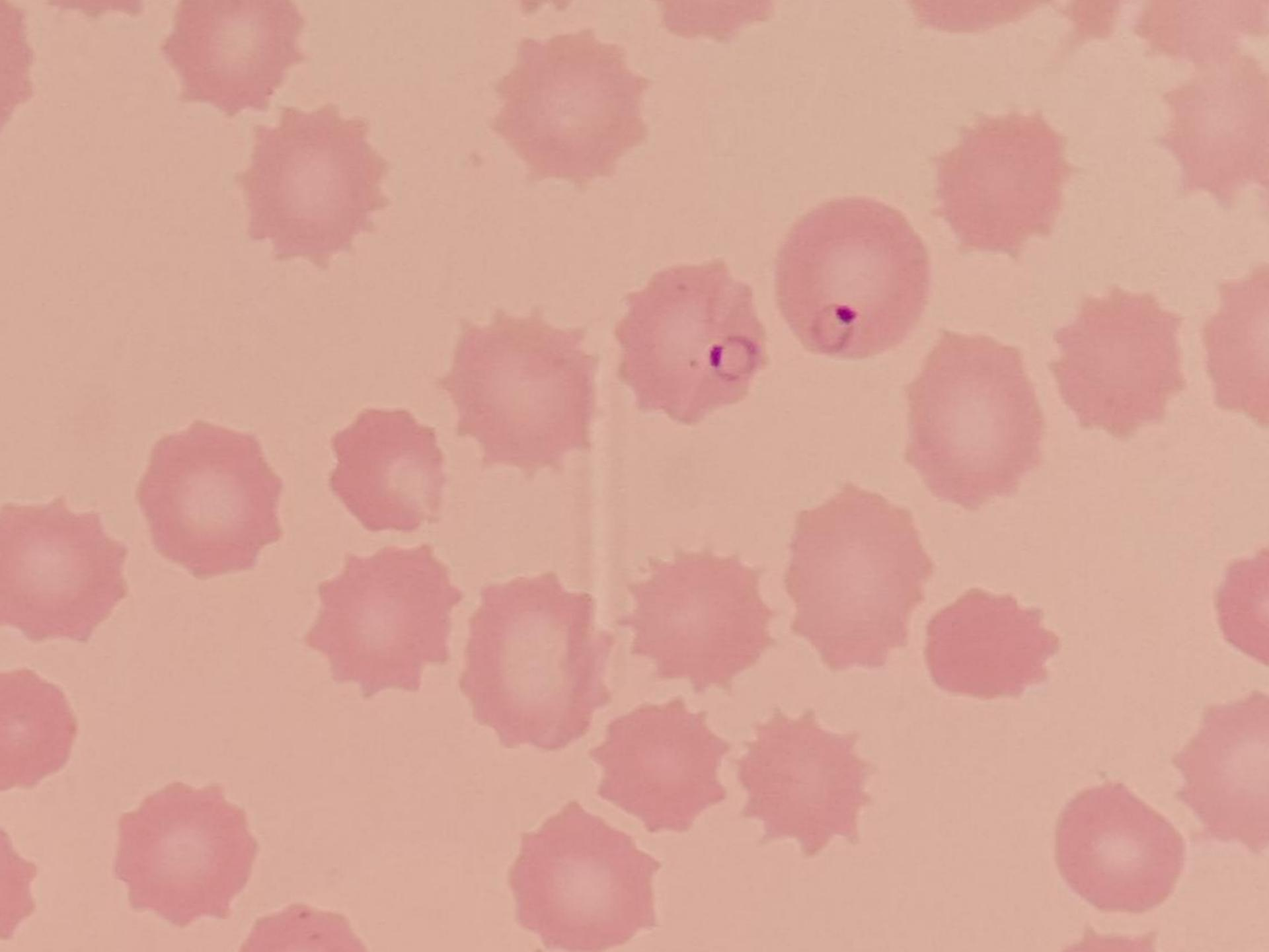Infected: (613, 258, 766, 425), (778, 194, 925, 357)
Uninfected: (236, 104, 393, 270), (448, 308, 601, 475), (788, 489, 929, 670), (486, 30, 648, 185), (464, 578, 609, 747), (904, 331, 1041, 505), (302, 544, 458, 694), (137, 418, 280, 579), (932, 103, 1071, 258), (507, 807, 655, 952), (626, 545, 773, 688), (112, 778, 253, 920), (735, 714, 873, 852), (0, 504, 133, 639), (1058, 289, 1180, 435), (596, 698, 733, 826), (1056, 782, 1186, 916), (167, 0, 303, 114), (1167, 55, 1269, 207), (332, 408, 450, 529), (925, 590, 1059, 696), (1181, 694, 1269, 846)
